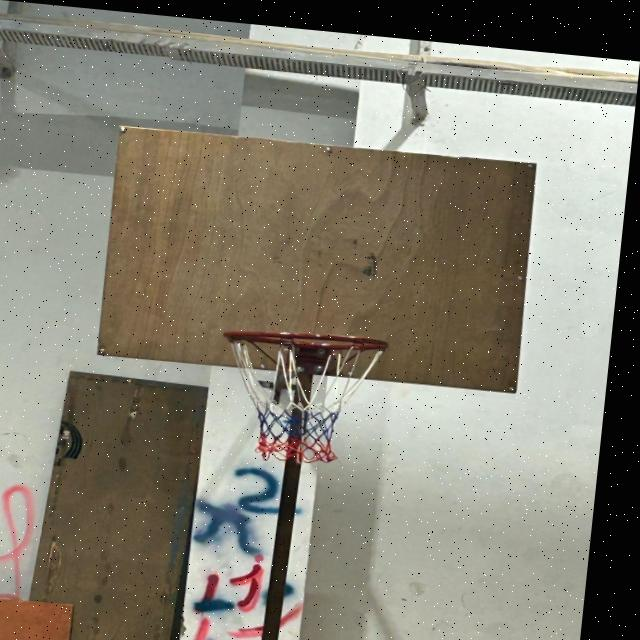hoop: (189, 307, 426, 480)
